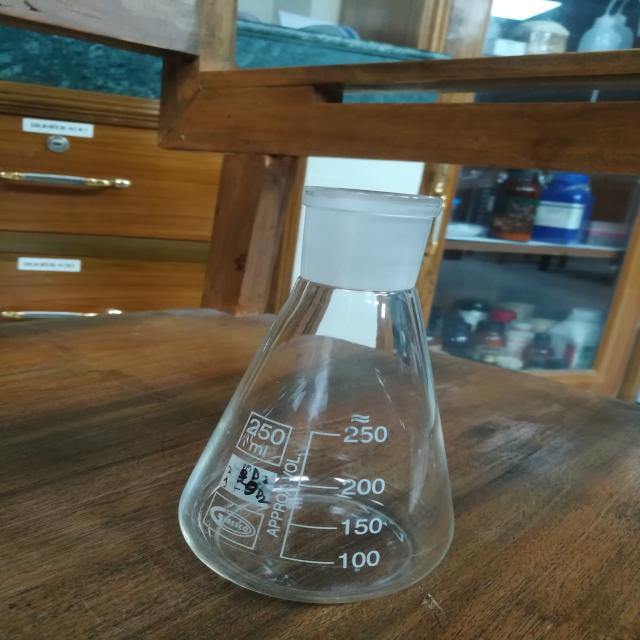Conical_Flask: (168, 139, 542, 640)
